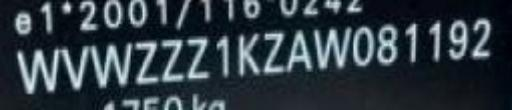letter: (313, 22, 357, 73), (92, 39, 136, 90), (16, 45, 62, 92), (285, 26, 315, 75), (60, 43, 90, 92), (156, 35, 186, 82), (261, 27, 289, 77), (184, 33, 212, 81), (469, 14, 497, 61), (351, 24, 379, 71), (132, 39, 160, 86), (234, 27, 260, 77), (208, 33, 236, 79), (443, 18, 471, 63), (419, 18, 445, 65), (397, 20, 425, 63), (375, 24, 401, 65)
